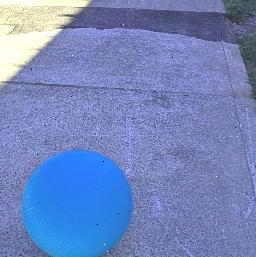algae: (22, 147, 134, 257)
